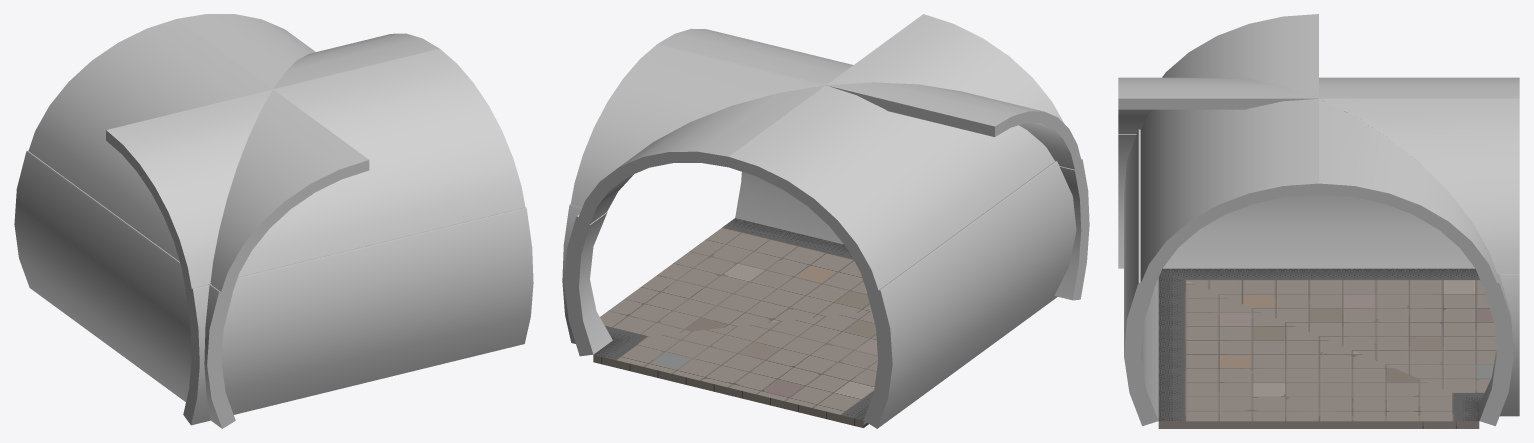
Rendered from road_2.fbx.
The picture shows the model from 3 angles, left to right: view 1: azimuth 30°, elevation 25°; view 2: azimuth 150°, elevation 25°; view 3: azimuth 270°, elevation 25°; orthographic projection. The views are drawn at different scales.
Parts seen in each view (by area): view 1: Cylinder.005, Cylinder.006, Cylinder.001, Cylinder.002, Cylinder.003, Cylinder.007; view 2: Cylinder.001, Cylinder.002, Grid.001, Grid.002, Cylinder.007, Cylinder.005, Cylinder.003, Cylinder.006, Cylinder.004, Cylinder.008; view 3: Grid.001, Cylinder.005, Grid.002, Cylinder.002, Cylinder.003, Cylinder.007, Cylinder.001, Cylinder.006, Cylinder.008, Cylinder.004.
Boxes of the visible parts, left/top/right/bottom form: Cylinder.005: left=106, top=48, right=525, bottom=292; Cylinder.006: left=183, top=207, right=533, bottom=425; Cylinder.001: left=28, top=19, right=369, bottom=296; Cylinder.002: left=14, top=151, right=235, bottom=428; Cylinder.003: left=177, top=14, right=315, bottom=88; Cylinder.007: left=273, top=33, right=439, bottom=89; Cylinder.001: left=728, top=14, right=1064, bottom=294; Cylinder.002: left=863, top=161, right=1076, bottom=428; Grid.001: left=600, top=218, right=871, bottom=340; Grid.002: left=593, top=311, right=877, bottom=427; Cylinder.007: left=570, top=44, right=824, bottom=207; Cylinder.005: left=657, top=28, right=1082, bottom=169; Cylinder.003: left=577, top=85, right=825, bottom=225; Cylinder.006: left=735, top=158, right=1089, bottom=300; Cylinder.004: left=564, top=212, right=612, bottom=356; Cylinder.008: left=562, top=204, right=581, bottom=343; Grid.001: left=1158, top=270, right=1479, bottom=428; Cylinder.005: left=1139, top=14, right=1318, bottom=289; Grid.002: left=1162, top=268, right=1496, bottom=403; Cylinder.002: left=1118, top=134, right=1474, bottom=268; Cylinder.003: left=1319, top=98, right=1519, bottom=273; Cylinder.007: left=1319, top=99, right=1498, bottom=289; Cylinder.001: left=1118, top=77, right=1519, bottom=133; Cylinder.006: left=1124, top=129, right=1158, bottom=425; Cylinder.008: left=1479, top=274, right=1513, bottom=425; Cylinder.004: left=1499, top=274, right=1519, bottom=416.
Bounding box in the file's own units: 464 × 313 × 464.
